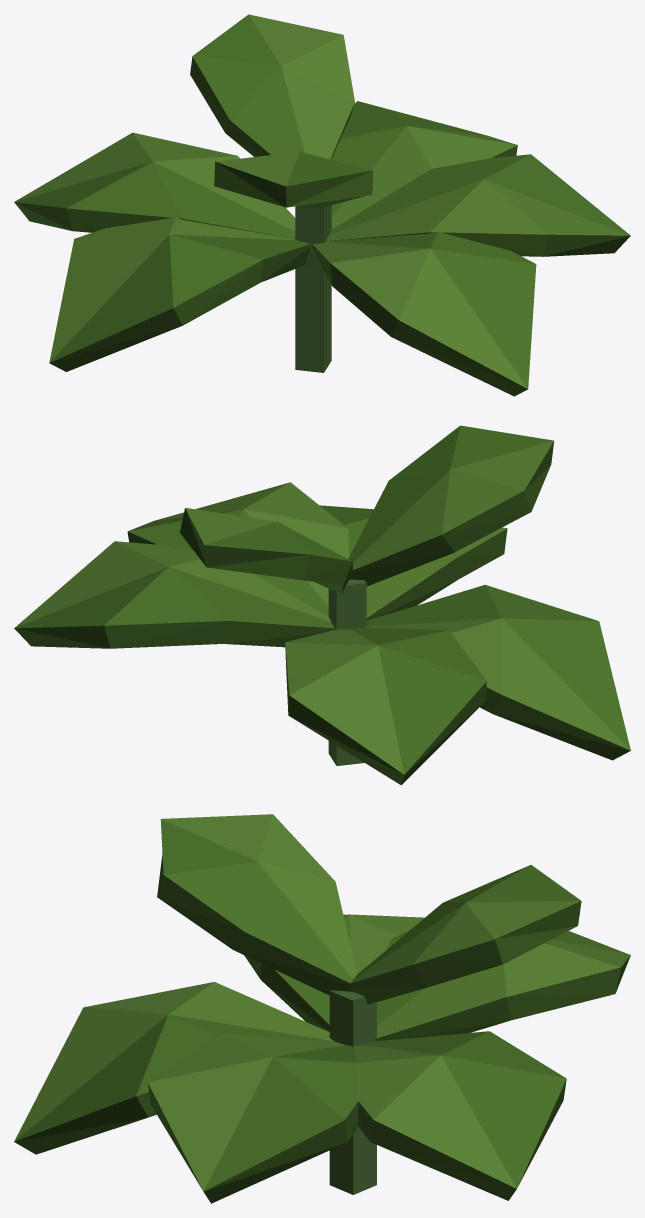
File: potato_2.obj
The picture shows the model from 3 angles, top to bottom: view 1: azimuth 30°, elevation 25°; view 2: azimuth 150°, elevation 25°; view 3: azimuth 270°, elevation 25°; orthographic projection. The views are drawn at different scales.
Visible parts, largest first — view 1: potato_2; view 2: potato_2; view 3: potato_2.
Boxes of the visible parts, x1,y1,x2,y2 form: potato_2: (14,14,630,396); potato_2: (14,425,630,785); potato_2: (14,814,630,1203).
Size of the model in its own units: 0.6014 by 0.2974 by 0.5469.
